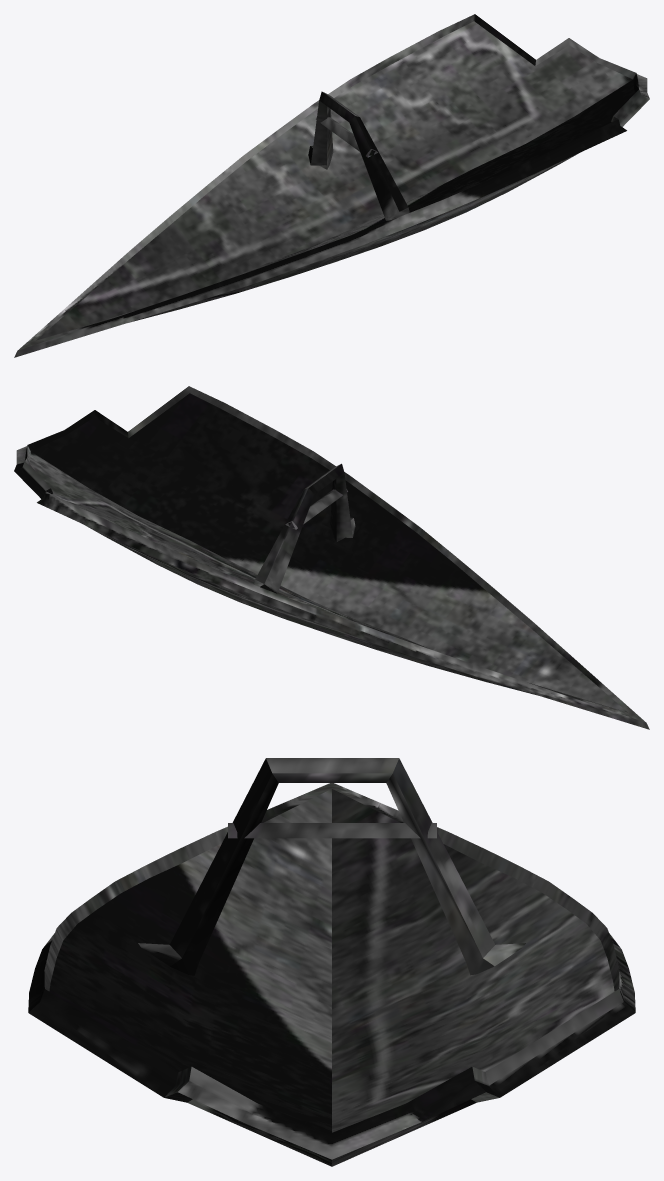
The picture shows the model from 3 angles, top to bottom: view 1: azimuth 30°, elevation 25°; view 2: azimuth 150°, elevation 25°; view 3: azimuth 270°, elevation 25°; orthographic projection. The views are drawn at different scales.
Visible parts, largest first — view 1: mesh_0; view 2: mesh_0; view 3: mesh_0.
Part boxes in pixels (x1,y1,x2,y2): mesh_0: [14, 14, 649, 357]; mesh_0: [14, 386, 649, 729]; mesh_0: [28, 758, 635, 1166].
Size of the model in its own units: 43.89 by 11.59 by 18.23.
Materials: 1 (1 with a texture image).
